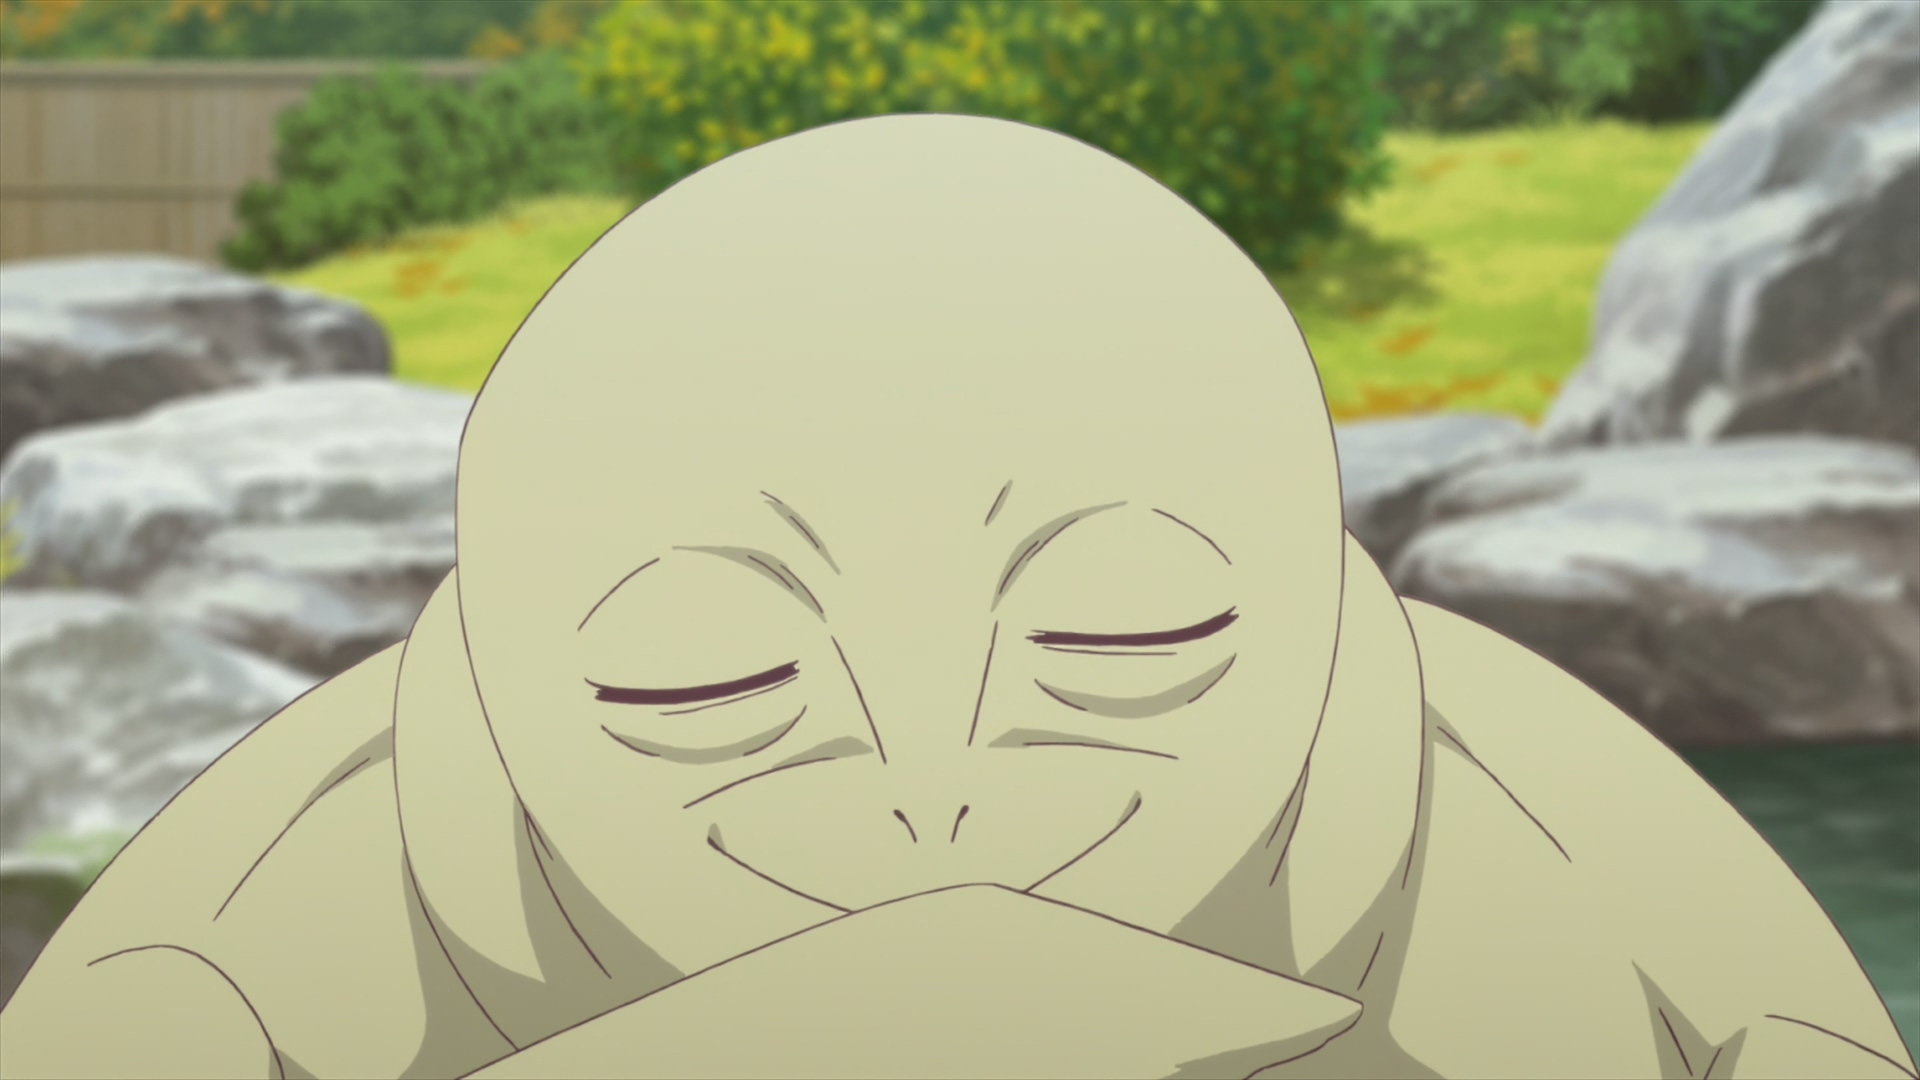其他: (1, 113, 1920, 1080)
